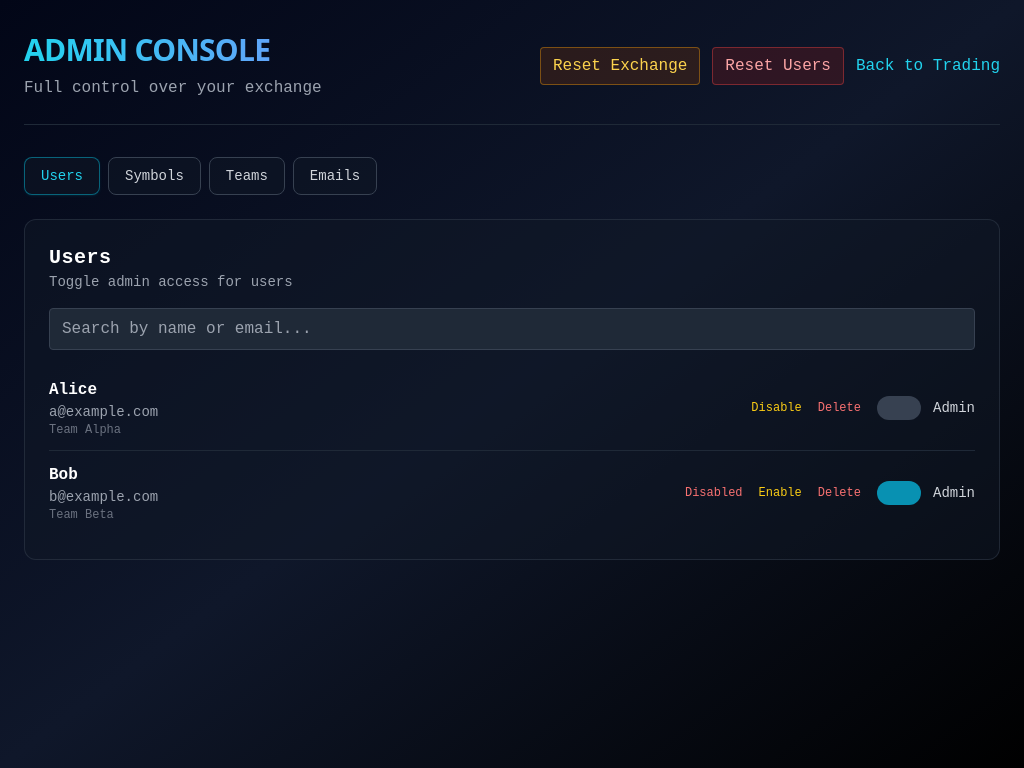
Scenario: AdminPage authorization and navigation › renders Users panel by default and can switch tabs
The width and height of the screenshot is (1024, 768).
expect the text "ADMIN CONSOLE" is shown: met, box [24,29,270,70]
expect the heading "Users" is shown: met, box [49,246,112,269]
Note: Switch to Teams
Step 1. Click the button "Teams" → (247,176), box [209,157,285,195]
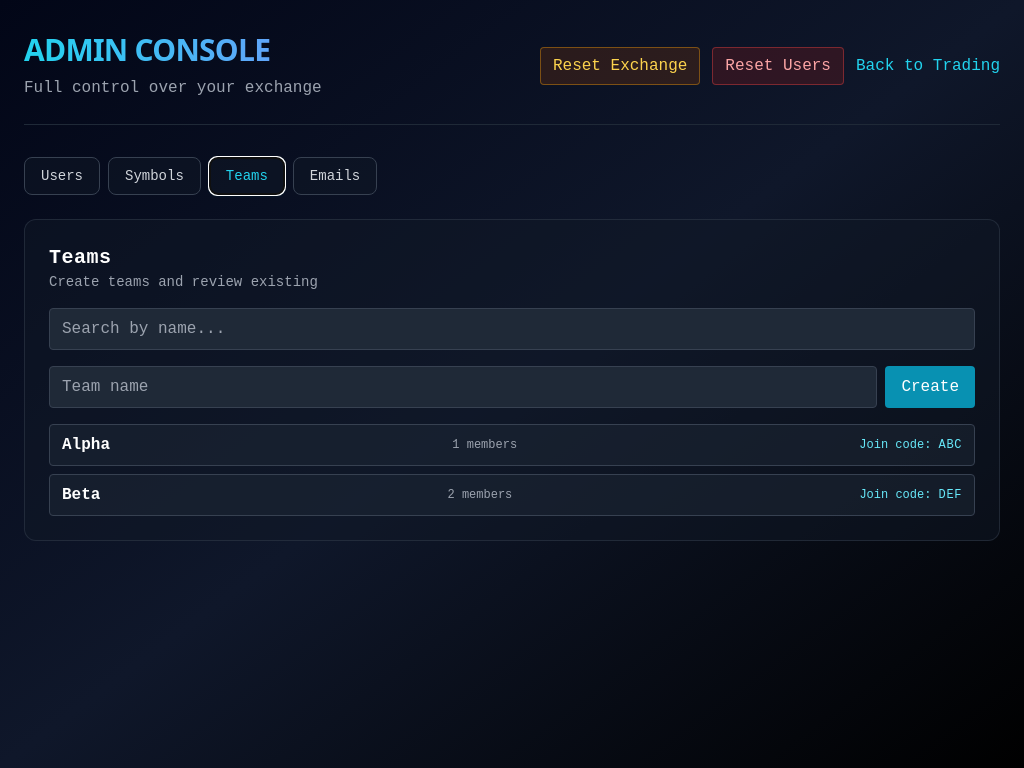
expect the heading "Teams" is shown: met, box [49,246,112,269]
expect the text "Create teams and review existing" is shown: met, box [49,274,318,290]
Note: Switch to Emails
Step 2. Click the button "Emails" → (335,176), box [293,157,377,195]
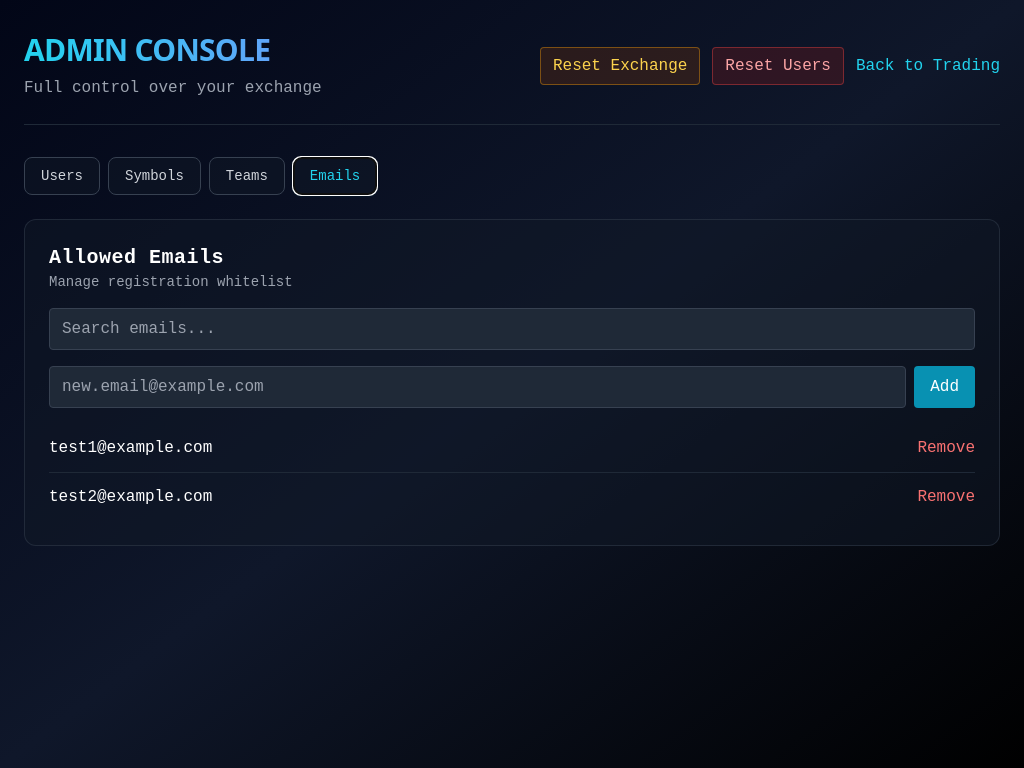
expect the heading "Allowed Emails" is shown: met, box [49,246,224,269]
expect the text "Manage registration whitelist" is shown: met, box [49,274,293,290]
Note: Switch to Symbols
Step 3. Click the button "Symbols" → (154,176), box [108,157,201,195]
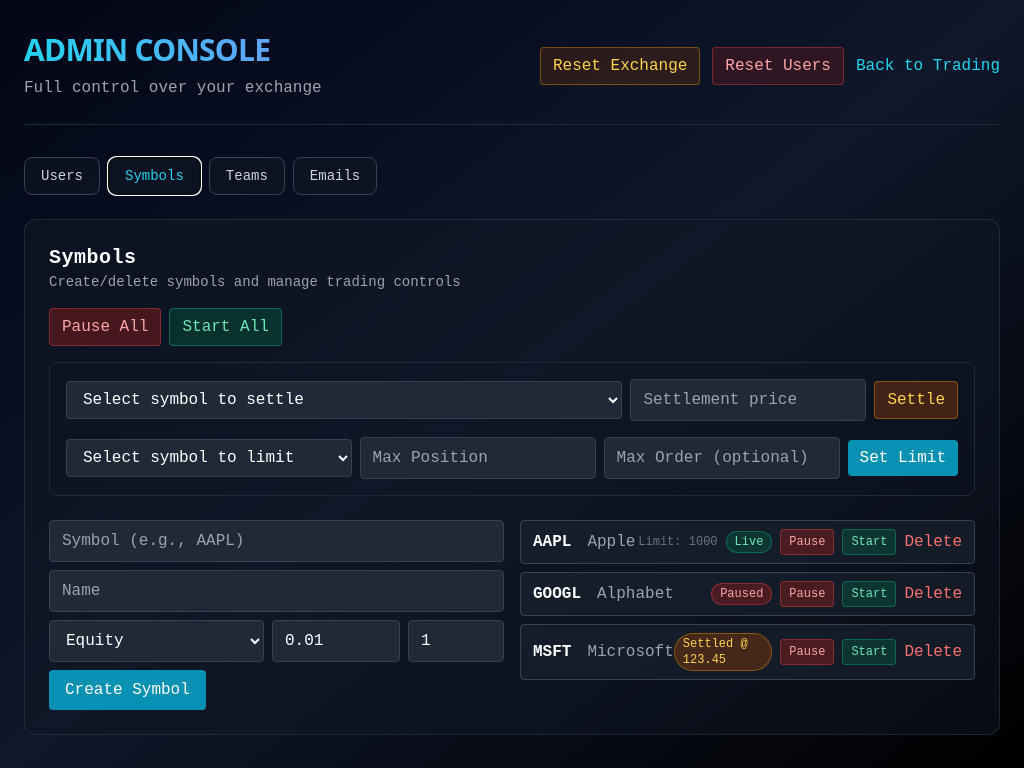
expect the heading "Symbols" is shown: met, box [49,246,136,269]
expect the field with placeholder "Symbol (e.g., AAPL)" is shown: met, box [49,520,504,562]
